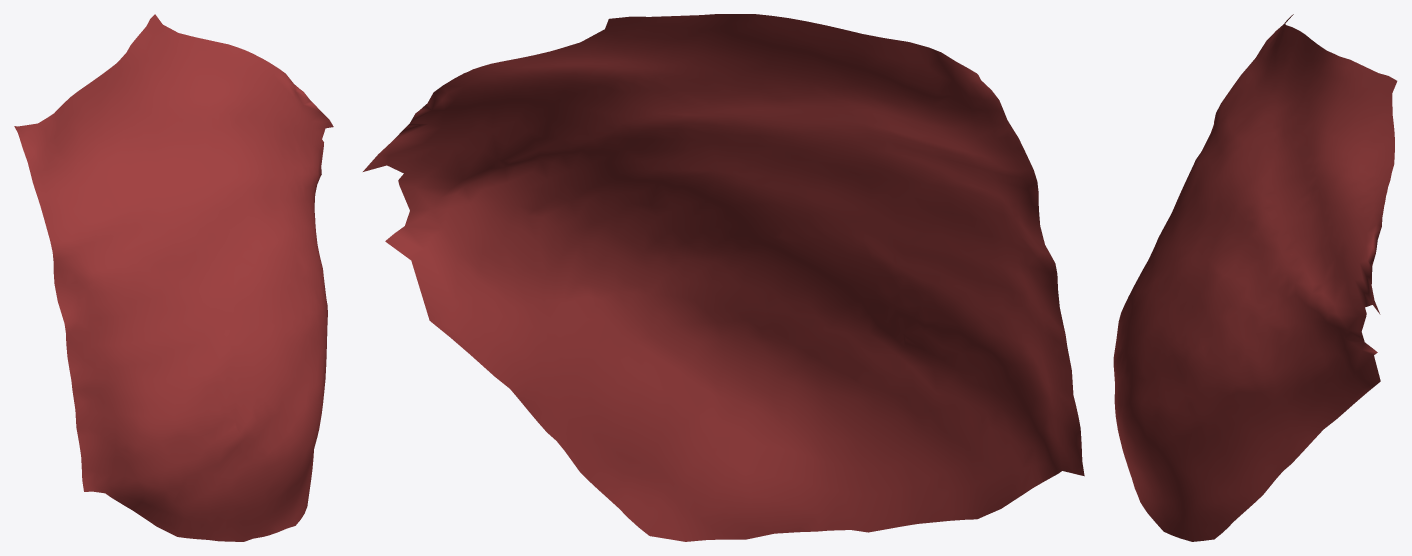
The model's file is pectoral-fascia-l.glb.
3 renders of one model, left to right at view 1: azimuth 30°, elevation 25°; view 2: azimuth 150°, elevation 25°; view 3: azimuth 270°, elevation 25°, orthographic. The views are drawn at different scales.
Visible parts, largest first — view 1: Pectoral fascia.l; view 2: Pectoral fascia.l; view 3: Pectoral fascia.l.
Boxes of the visible parts, x1,y1,x2,y2 form: Pectoral fascia.l: [14, 14, 333, 541]; Pectoral fascia.l: [363, 14, 1084, 541]; Pectoral fascia.l: [1113, 14, 1397, 541].
Size of the model in its own units: 0.1723 by 0.1969 by 0.1155.
